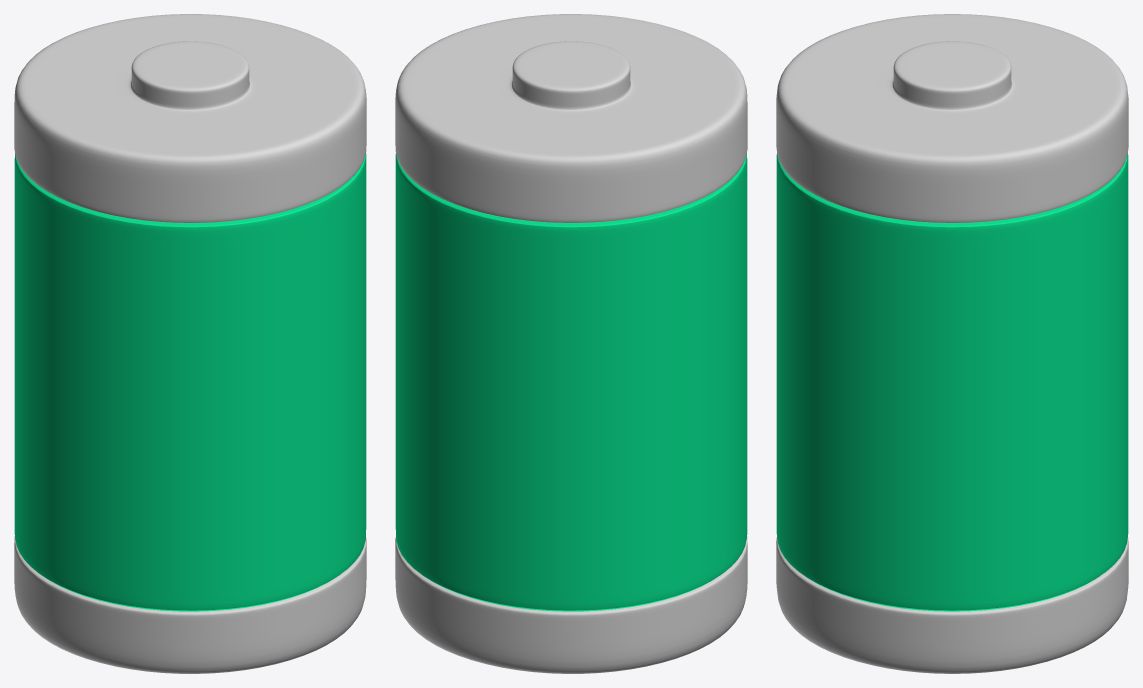
The model's file is battery.glb.
The picture shows the model from 3 angles, left to right: view 1: azimuth 30°, elevation 25°; view 2: azimuth 150°, elevation 25°; view 3: azimuth 270°, elevation 25°; orthographic projection.
Visible parts, largest first — view 1: Circle.016; view 2: Circle.016; view 3: Circle.016.
Boxes of the visible parts, x1=… form: Circle.016: x1=14, y1=14, x2=366, y2=673; Circle.016: x1=395, y1=14, x2=747, y2=673; Circle.016: x1=776, y1=14, x2=1128, y2=673.
Size of the model in its own units: 1.24 by 2.09 by 1.24.
